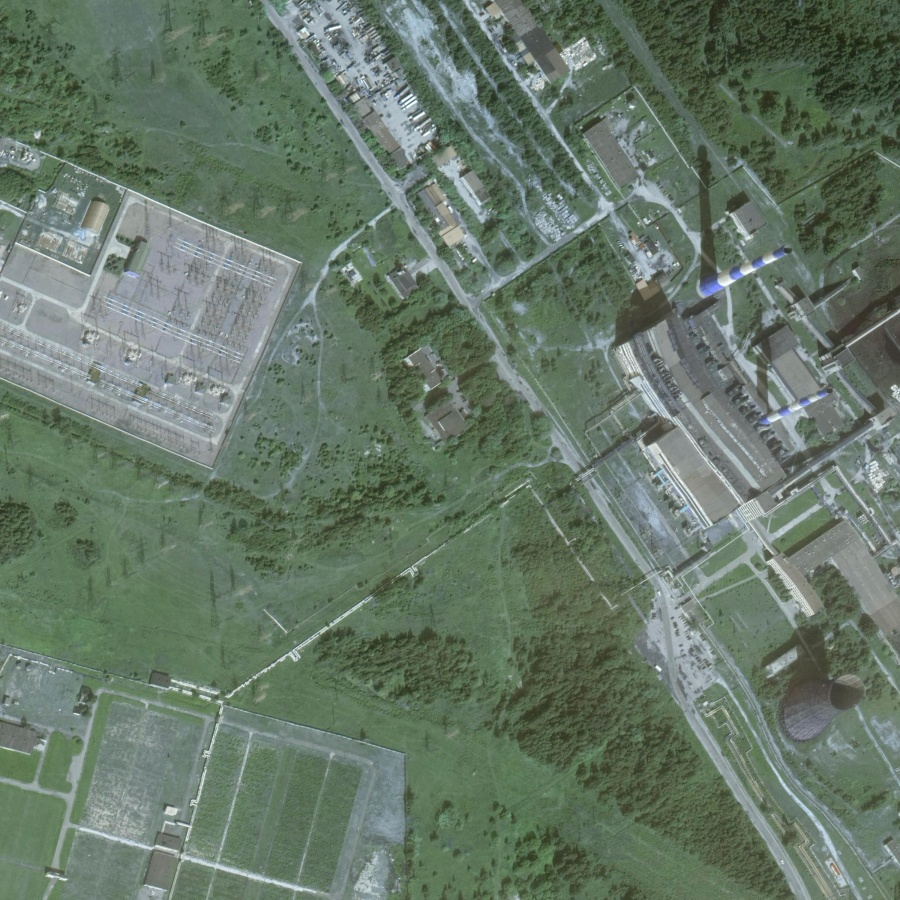PowerPlant: (755, 623, 884, 753)
